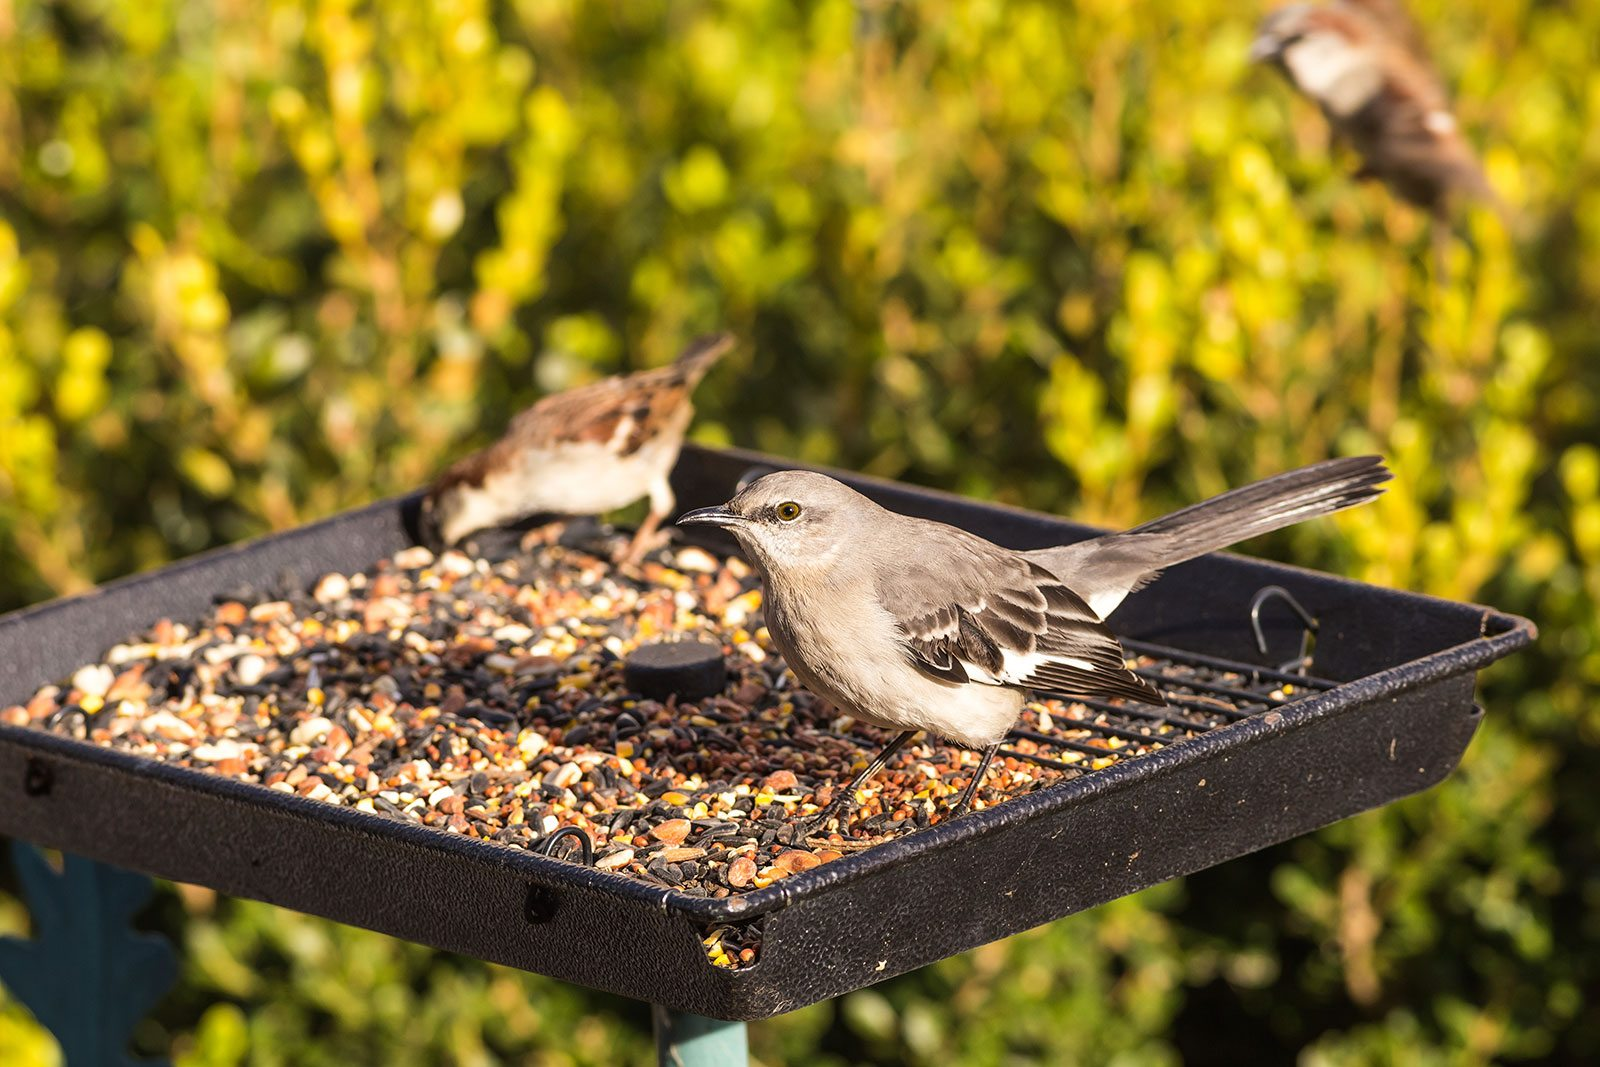bird: (644, 445, 1421, 754), (392, 324, 719, 572)
